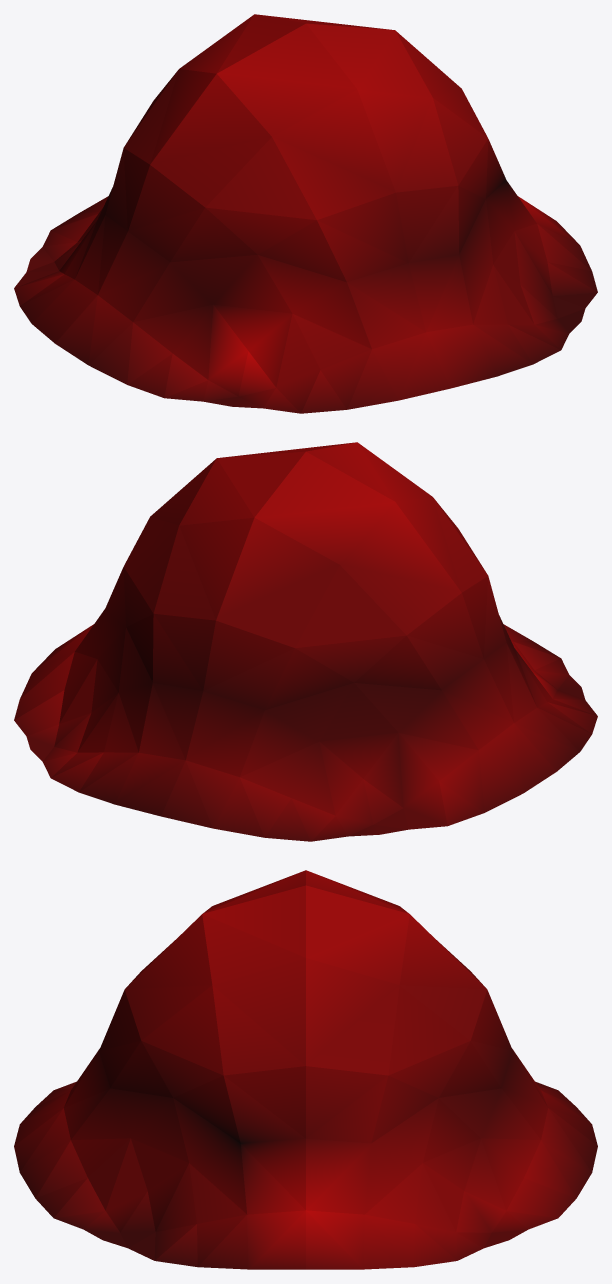
Rendered from Haything.fbx.
3 renders of one model, top to bottom at view 1: azimuth 30°, elevation 25°; view 2: azimuth 150°, elevation 25°; view 3: azimuth 270°, elevation 25°, orthographic.
Parts seen in each view (by area): view 1: bigheyy; view 2: bigheyy; view 3: bigheyy.
Boxes of the visible parts, x1=… form: bigheyy: x1=14, y1=14, x2=597, y2=413; bigheyy: x1=14, y1=442, x2=597, y2=841; bigheyy: x1=14, y1=870, x2=597, y2=1269.
Bounding box in the file's own units: 1.59 × 0.808 × 1.59.
